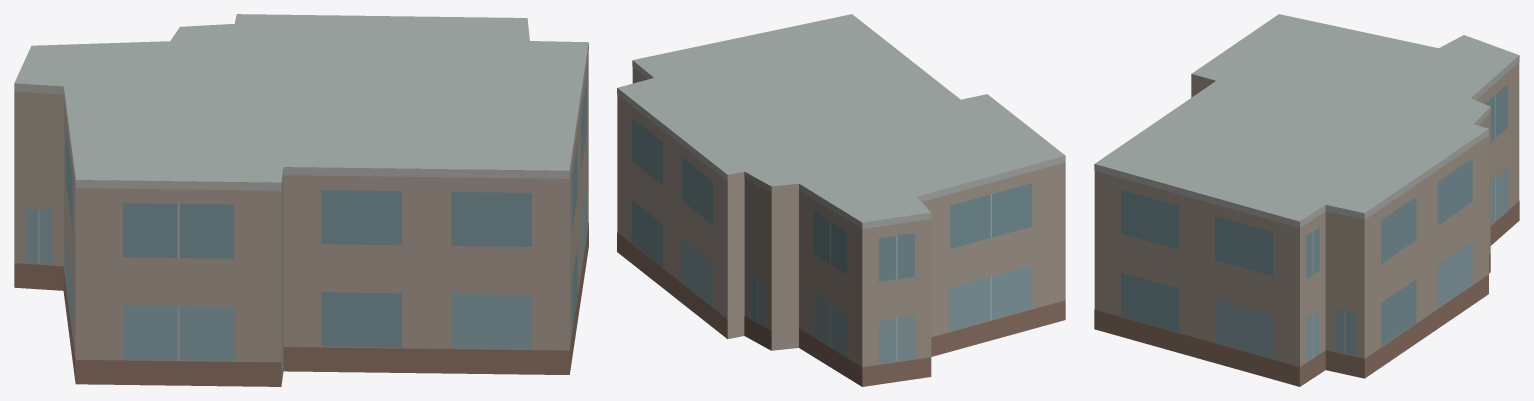
The model's file is survey-upis-32837744.glb.
3 renders of one model, left to right at view 1: azimuth 30°, elevation 25°; view 2: azimuth 150°, elevation 25°; view 3: azimuth 270°, elevation 25°, orthographic. The views are drawn at different scales.
Parts seen in each view (by area): view 1: survey-upis-32837744.tmp; view 2: survey-upis-32837744.tmp; view 3: survey-upis-32837744.tmp.
Boxes of the visible parts, bbox=[...] form: survey-upis-32837744.tmp: bbox=[14, 14, 588, 386]; survey-upis-32837744.tmp: bbox=[617, 14, 1065, 386]; survey-upis-32837744.tmp: bbox=[1094, 14, 1519, 386].
Size of the model in its own units: 16.44 by 6.1 by 14.22.
